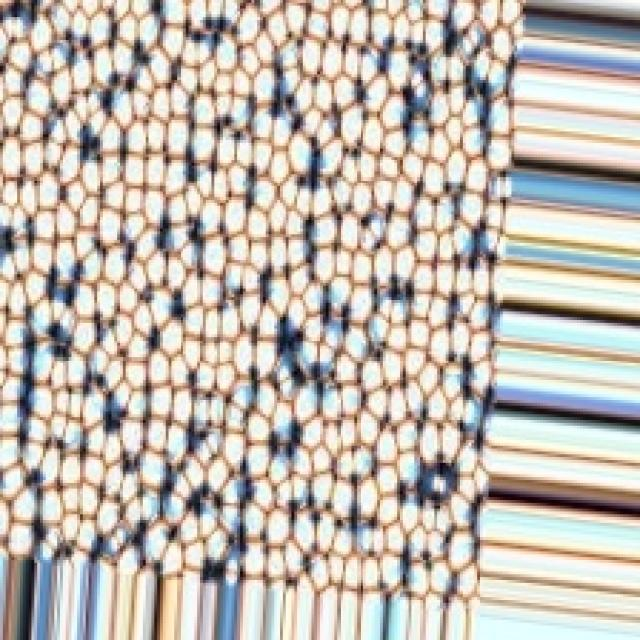Spiral_bacteria: (0, 0, 529, 637)
